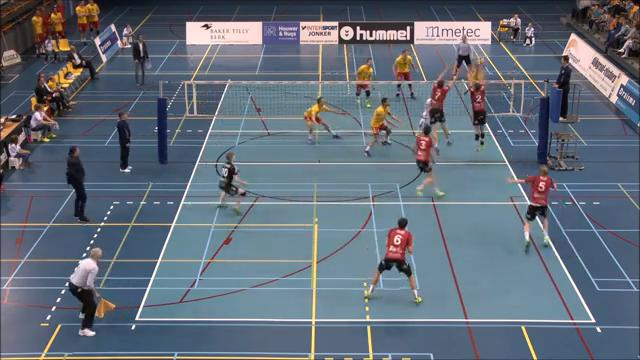Block: (427, 62, 461, 156), (468, 63, 488, 154)
Player: (365, 218, 421, 303), (507, 166, 556, 250), (413, 124, 444, 196), (364, 97, 398, 156), (218, 152, 246, 214), (304, 97, 339, 144), (392, 50, 414, 98), (356, 58, 374, 108), (418, 98, 431, 133), (468, 58, 484, 81)
ball: (473, 58, 480, 64)
